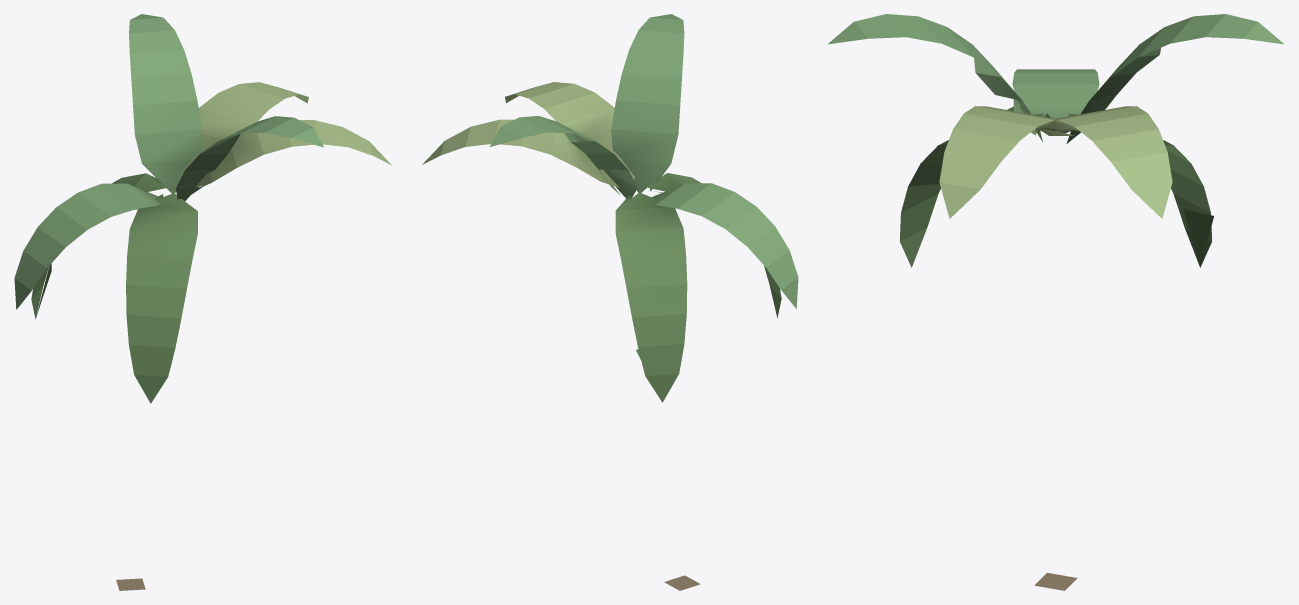
Rendered from palm.lod.glb.
3 views of the same model, side by side, from view 1: azimuth 30°, elevation 25°; view 2: azimuth 150°, elevation 25°; view 3: azimuth 270°, elevation 25° (orthographic). The views are drawn at different scales.
Visible parts, largest first — view 1: palm; view 2: palm; view 3: palm.
Boxes of the visible parts, <box> form: palm: <box>14,14,391,590</box>; palm: <box>422,14,798,590</box>; palm: <box>828,14,1283,590</box>.
Bounding box in the file's own units: 4.72 × 6.57 × 4.47.
